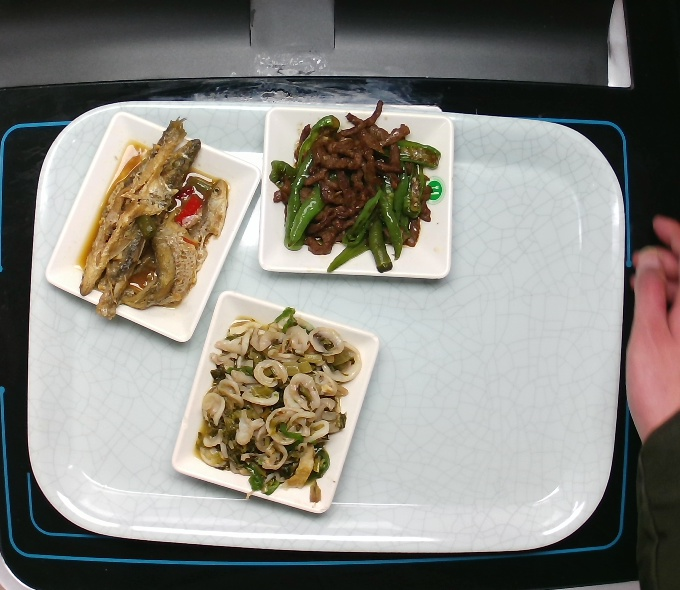wcq-QingJiaoNiuRou: (266, 97, 445, 278)
wcq-XiaoXiYu: (73, 112, 232, 326)
wcq-XueCaiYouYu: (192, 303, 366, 506)
